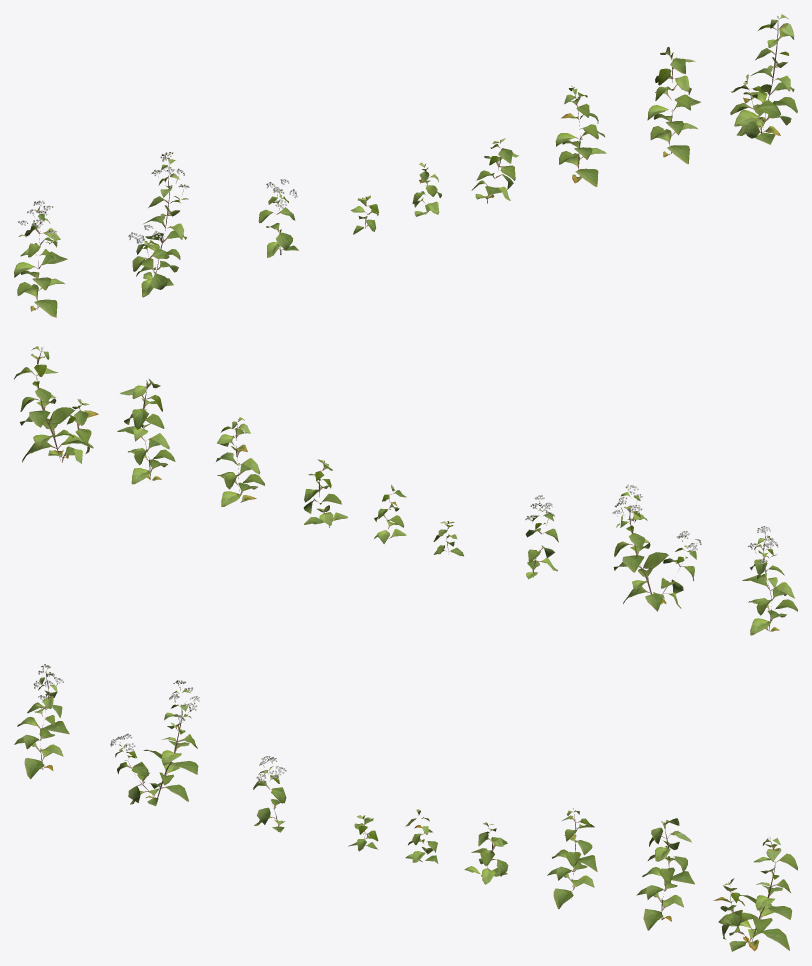
The model's file is shrub1.glb.
3 views of the same model, one above another, from view 1: azimuth 30°, elevation 25°; view 2: azimuth 150°, elevation 25°; view 3: azimuth 330°, elevation 25° (orthographic). The views are drawn at different scales.
Visible parts, largest first — view 1: shrub_01_a; view 2: shrub_01_a; view 3: shrub_01_a.
Part boxes in pixels (x1,y1,x2,y2): shrub_01_a: (14,14,797,317); shrub_01_a: (14,346,797,635); shrub_01_a: (14,664,797,951).
Bounding box in the file's own units: 2.59 × 0.3956 × 0.2178.
1 material, 1 textured.
